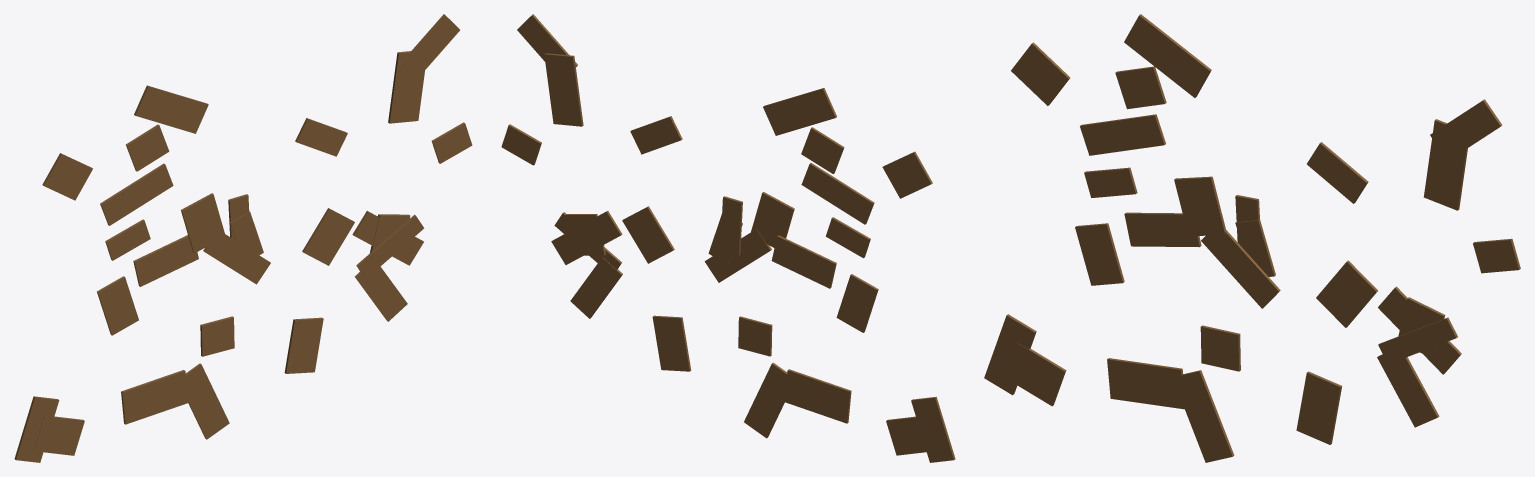
Rendered from leaf_litter_patch.glb.
3 views of the same model, side by side, from view 1: azimuth 30°, elevation 25°; view 2: azimuth 150°, elevation 25°; view 3: azimuth 330°, elevation 25° (orthographic). The views are drawn at different scales.
Parts seen in each view (by area): view 1: world; view 2: world; view 3: world.
Boxes of the visible parts, x1,y1,x2,y2 form: world: (14, 14, 472, 462); world: (501, 14, 955, 462); world: (984, 14, 1520, 462).
Size of the model in its own units: 1.42 by 1.09 by 0.0267.
